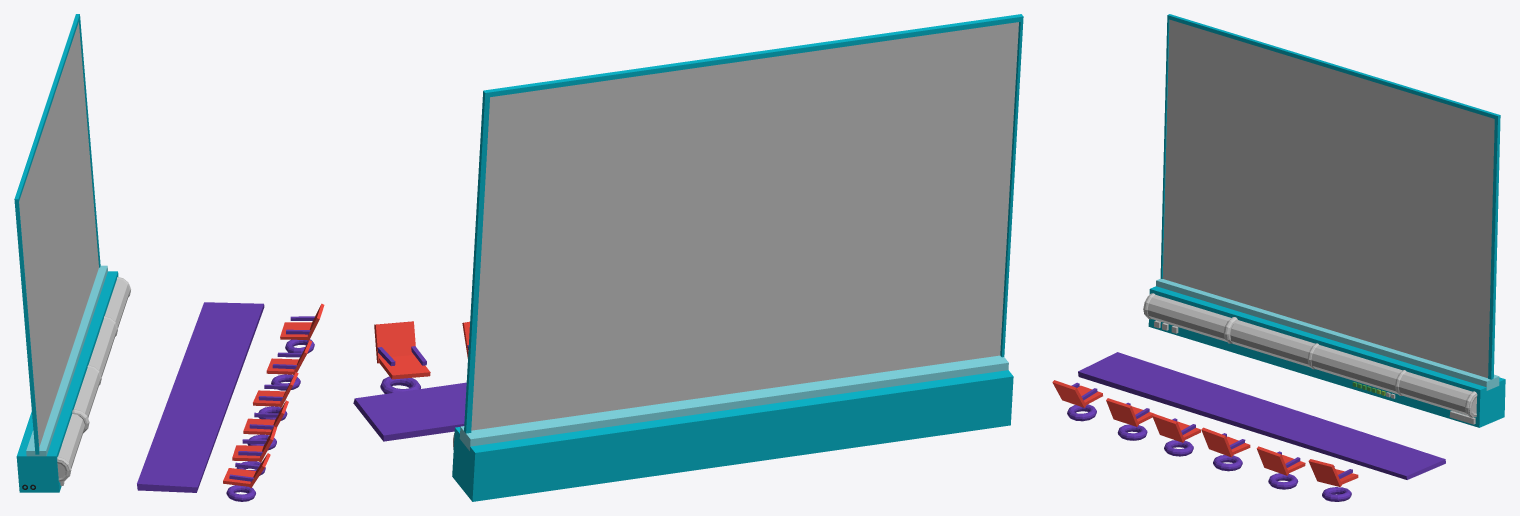
3 views of the same model, side by side, from view 1: azimuth 30°, elevation 25°; view 2: azimuth 150°, elevation 25°; view 3: azimuth 270°, elevation 25° (orthographic). The views are drawn at different scales.
Visible parts, largest first — view 1: group_794058697, group_2020967549; view 2: group_794058697, group_2020967549; view 3: group_794058697, group_2020967549.
Part boxes in pixels (x1=…): group_794058697: x1=14, y1=14, x2=130, y2=492; group_2020967549: x1=137, y1=302, x2=324, y2=501; group_794058697: x1=452, y1=14, x2=1023, y2=501; group_2020967549: x1=353, y1=321, x2=469, y2=441; group_794058697: x1=1143, y1=14, x2=1505, y2=427; group_2020967549: x1=1052, y1=352, x2=1445, y2=501.
Size of the model in its own units: 527 by 417 by 526.
